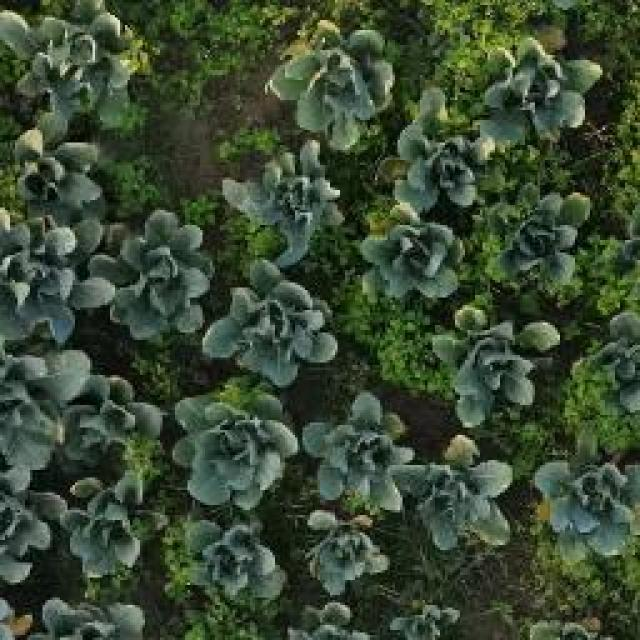cabbage: (273, 16, 398, 147), (0, 205, 117, 341), (207, 258, 340, 377), (3, 7, 137, 125), (442, 304, 562, 427), (404, 434, 514, 556), (302, 391, 410, 514), (173, 382, 285, 500), (105, 207, 215, 325), (236, 139, 349, 252), (0, 349, 88, 481), (536, 452, 640, 562), (484, 45, 599, 144), (390, 96, 498, 201), (62, 476, 169, 578), (355, 210, 465, 308), (494, 194, 592, 301), (181, 516, 289, 610), (66, 371, 162, 476), (13, 128, 112, 216), (301, 503, 393, 595), (0, 460, 68, 580), (575, 306, 640, 412), (27, 591, 157, 640)
